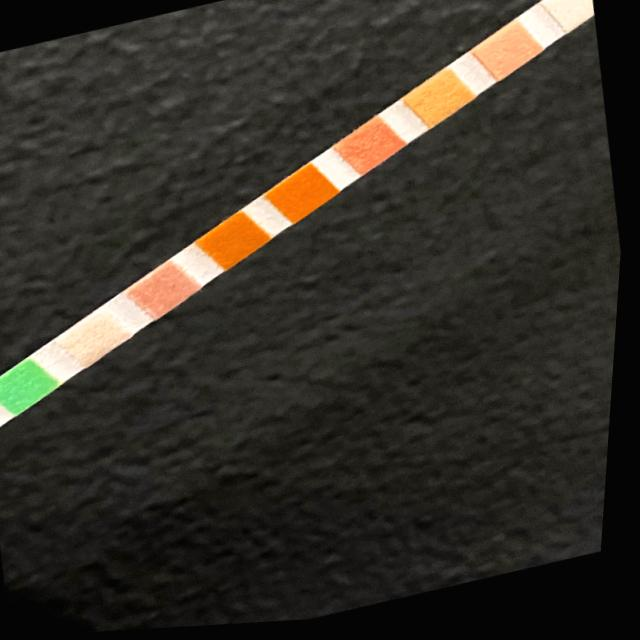Bilirubin: (74, 317, 120, 357)
Blood: (281, 175, 324, 217)
Glucose: (4, 366, 48, 407)
Ketone: (146, 270, 187, 310)
Nitrite: (553, 0, 596, 28)
Protein: (418, 83, 460, 123)
SpGravity: (215, 220, 258, 262)
Urobilinogen: (484, 35, 531, 75)
pH: (349, 128, 394, 168)
